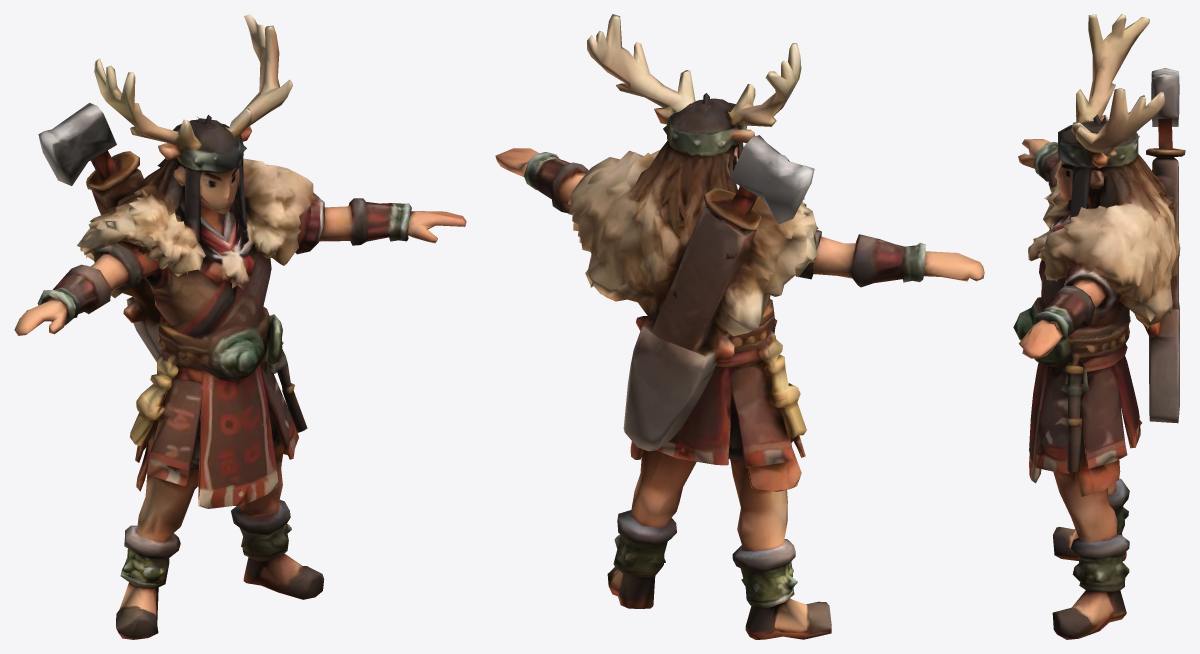
Rendered from anc_chief.glb.
The picture shows the model from 3 angles, left to right: view 1: azimuth 30°, elevation 25°; view 2: azimuth 150°, elevation 25°; view 3: azimuth 270°, elevation 25°; orthographic projection. The views are drawn at different scales.
Visible parts, largest first — view 1: tripo_node_fb754d9e-5e9b-4966-8bd3-487967b9fd3f; view 2: tripo_node_fb754d9e-5e9b-4966-8bd3-487967b9fd3f; view 3: tripo_node_fb754d9e-5e9b-4966-8bd3-487967b9fd3f.
Boxes of the visible parts, x1,y1,x2,y2 form: tripo_node_fb754d9e-5e9b-4966-8bd3-487967b9fd3f: (14,14,466,639); tripo_node_fb754d9e-5e9b-4966-8bd3-487967b9fd3f: (495,14,984,639); tripo_node_fb754d9e-5e9b-4966-8bd3-487967b9fd3f: (1013,14,1185,639).
Size of the model in its own units: 0.8332 by 0.9785 by 0.2827.
1 material, 1 textured.
